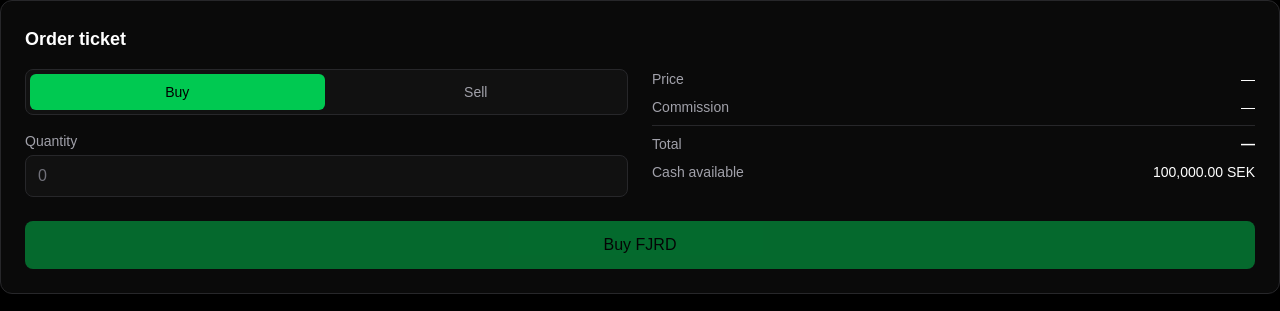
OrderTicket › switches to Sell and prices at the bid
Expected: the button "Buy FJRD" is shown, x1=25 y1=221 x2=1255 y2=269
Click the button "Sell" at coordinates (476, 92), box x1=328 y1=74 x2=623 y2=110
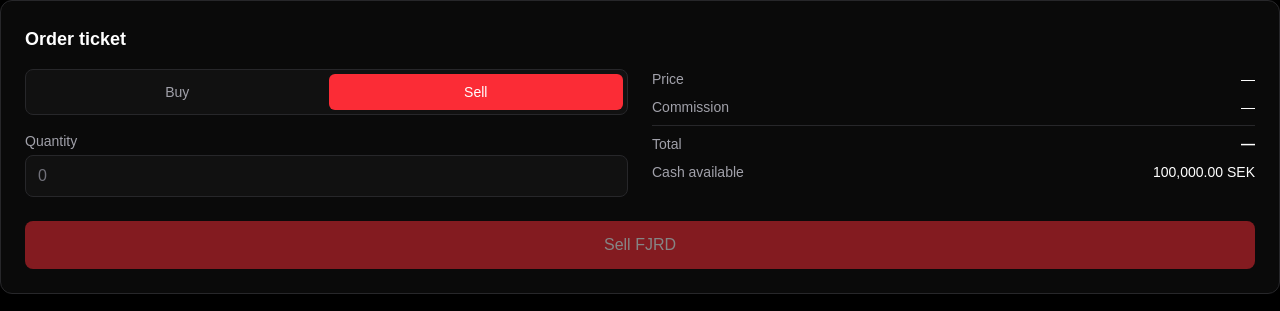
Type "4" into the number field labelled "Quantity" at coordinates (326, 176), box x1=25 y1=155 x2=628 y2=197
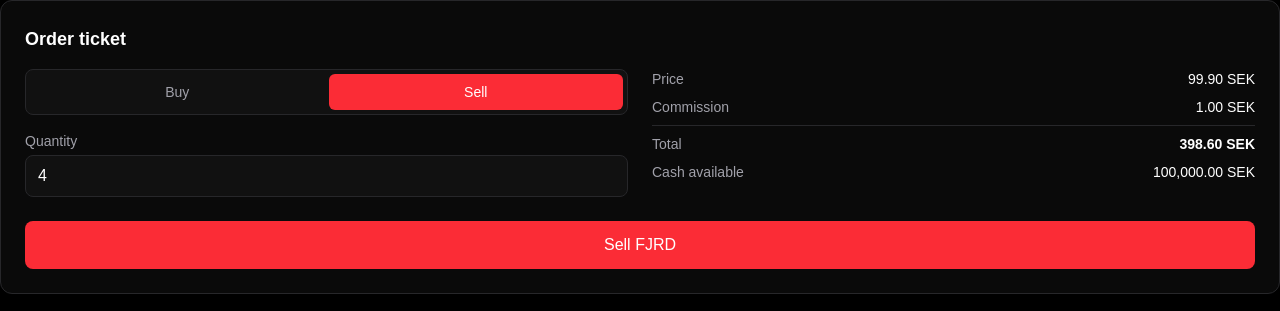
Expected: the text "99.90 SEK" is shown, x1=1188 y1=69 x2=1255 y2=89
Expected: the text "1.00 SEK" is shown, x1=1196 y1=97 x2=1255 y2=117
Expected: the text "398.60 SEK" is shown, x1=1180 y1=134 x2=1255 y2=154
